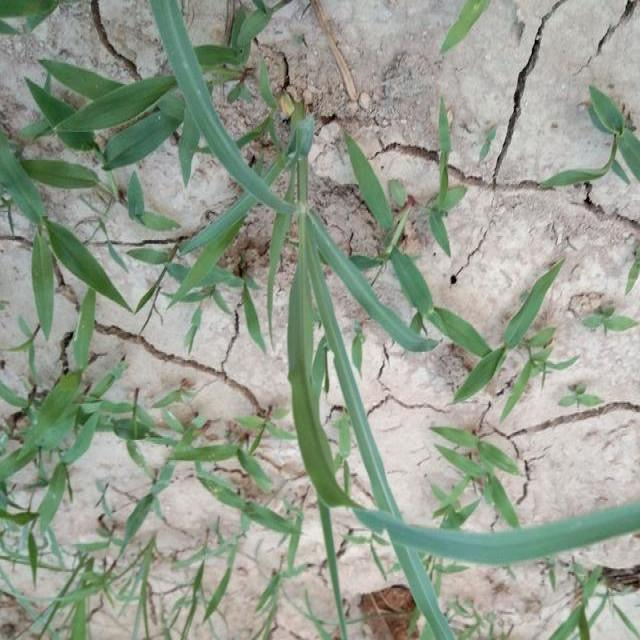weed: (253, 216, 638, 640), (18, 335, 275, 631), (0, 66, 158, 342), (129, 0, 275, 204), (390, 298, 524, 399), (525, 82, 607, 196)
